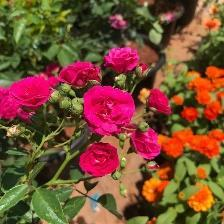rose: (83, 85, 137, 139), (1, 73, 51, 118), (76, 144, 124, 178), (129, 128, 164, 166), (105, 47, 146, 78), (61, 64, 103, 88), (147, 88, 175, 117)
